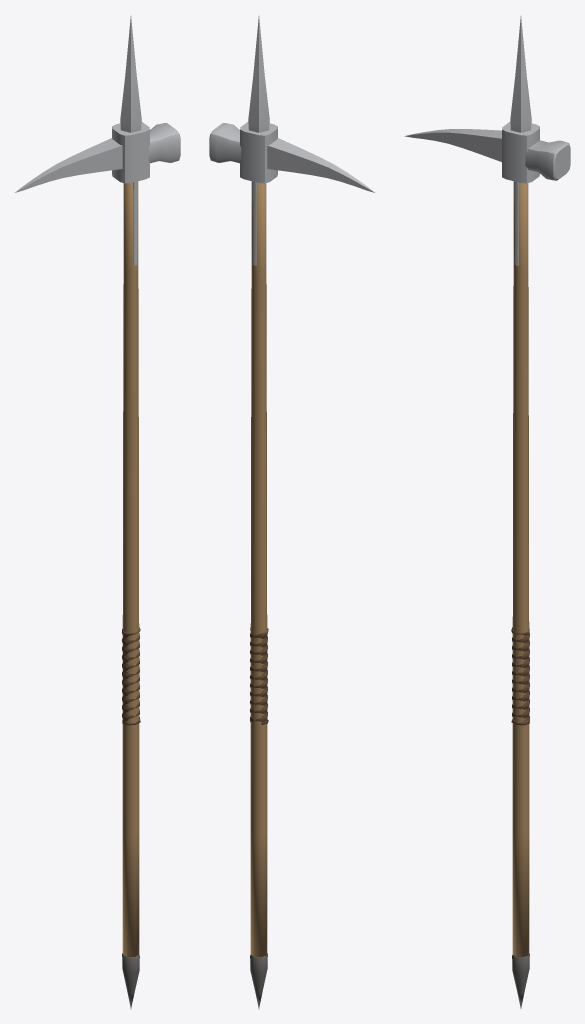
The model's file is bec-de-corbin.glb.
The picture shows the model from 3 angles, left to right: view 1: azimuth 30°, elevation 25°; view 2: azimuth 150°, elevation 25°; view 3: azimuth 330°, elevation 25°; orthographic projection.
Visible parts, largest first — view 1: bec-de-corbin; view 2: bec-de-corbin; view 3: bec-de-corbin.
Part boxes in pixels (box(x1,y1,x2,y2)): bec-de-corbin: box(15, 16, 180, 1008); bec-de-corbin: box(209, 16, 374, 1008); bec-de-corbin: box(404, 16, 570, 1008).
Size of the model in its own units: 0.905 by 5.42 by 0.1707.
